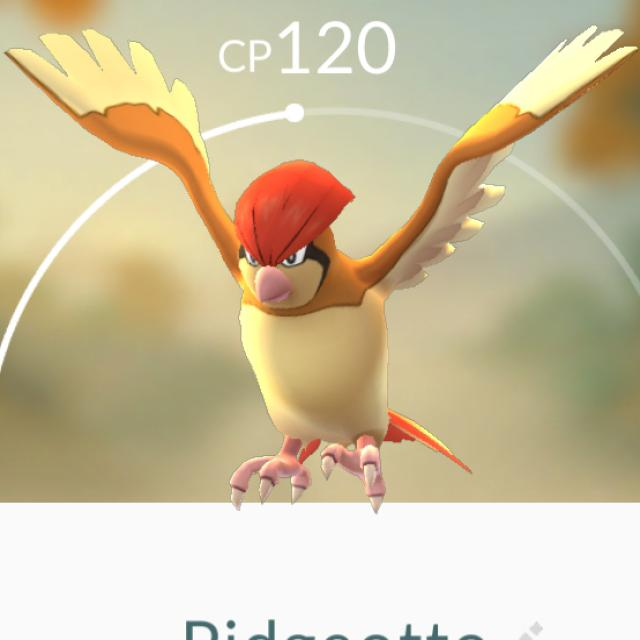Pidgeotto: (162, 119, 492, 502)
